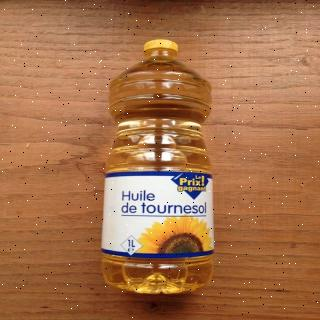Plastic-bottle: (98, 38, 226, 298)
